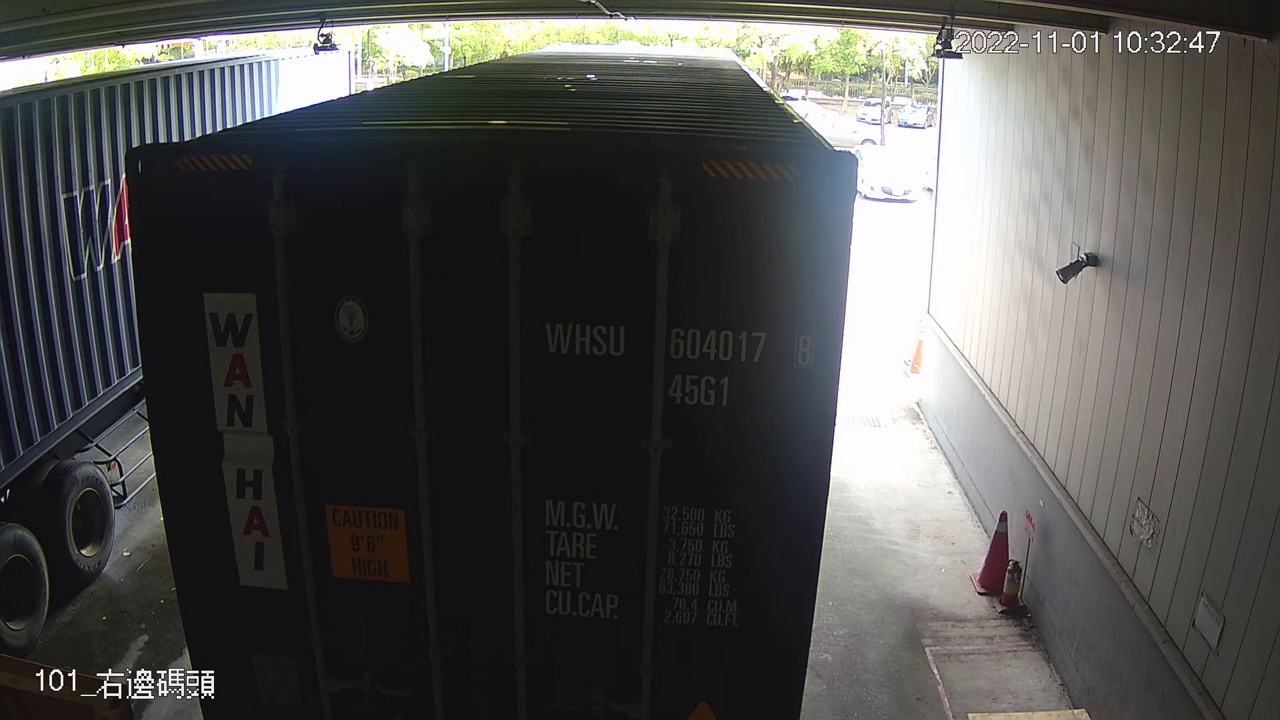container: (536, 309, 823, 415)
